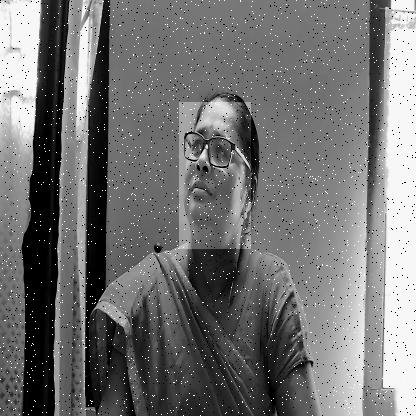Distracted: (179, 102, 251, 249)
